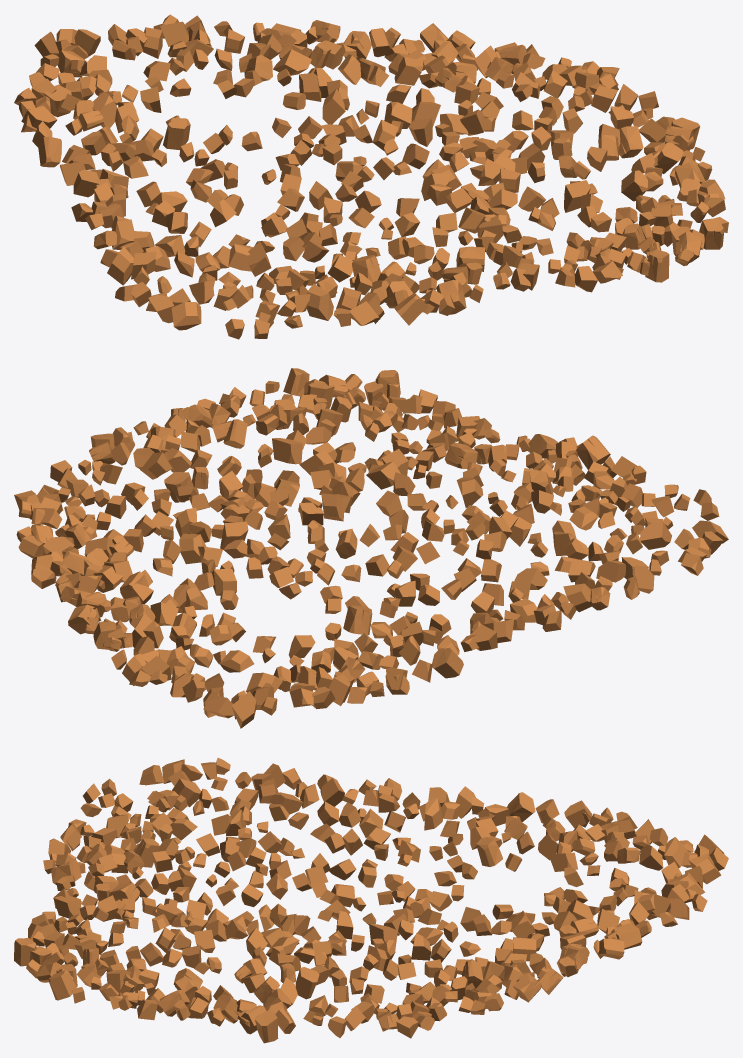
The model's file is Rubbles.fbx.
3 renders of one model, top to bottom at view 1: azimuth 30°, elevation 25°; view 2: azimuth 150°, elevation 25°; view 3: azimuth 270°, elevation 25°, orthographic. The views are drawn at different scales.
Parts seen in each view (by area): view 1: 立方体.447; view 2: 立方体.447; view 3: 立方体.447.
Boxes of the visible parts, box(x1,y1,x2,y2) form: 立方体.447: box(14, 14, 728, 339); 立方体.447: box(14, 368, 728, 728); 立方体.447: box(14, 757, 728, 1043).
Size of the model in its own units: 1240 by 1401 by 72.59.
